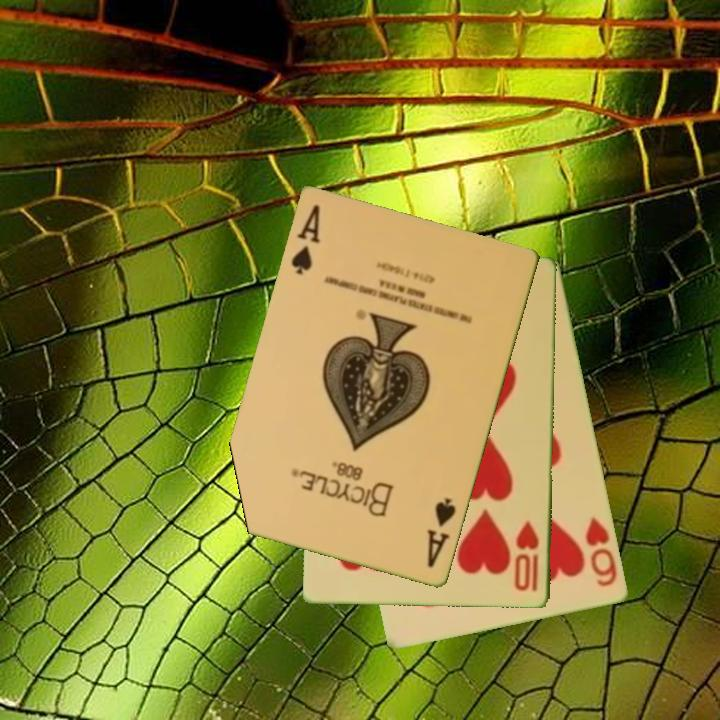10h: (512, 517, 542, 595)
6h: (582, 514, 620, 590)
As: (288, 201, 324, 279), (424, 494, 459, 572)
